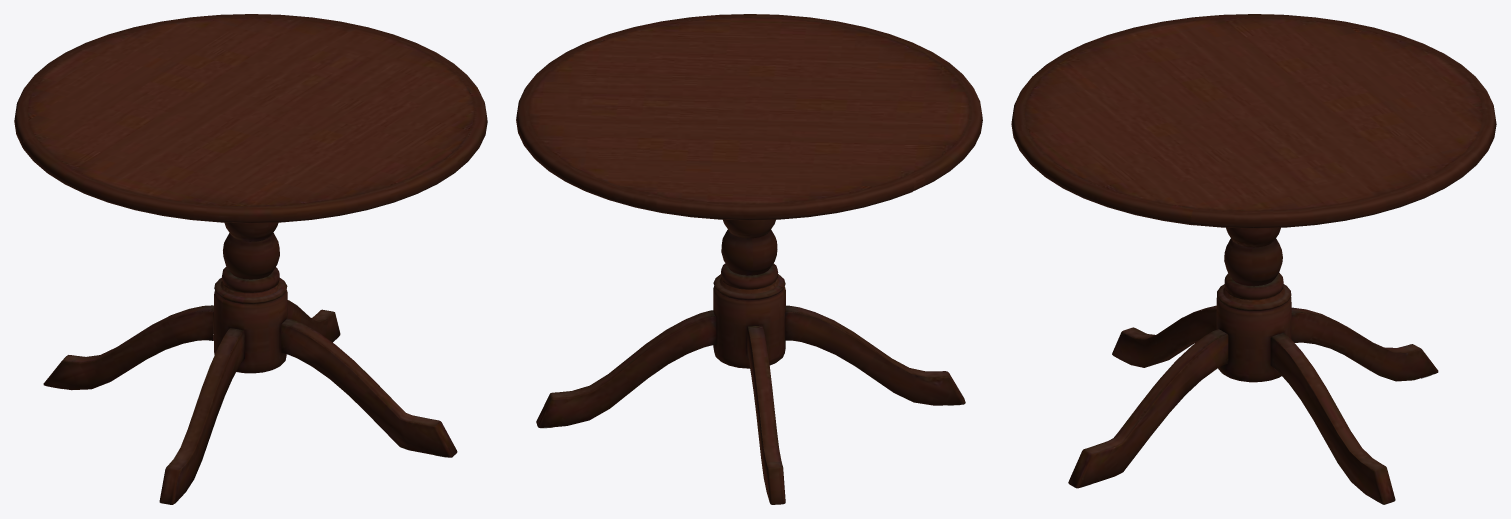
Rendered from round_wooden_table_01.glb.
The picture shows the model from 3 angles, left to right: view 1: azimuth 30°, elevation 25°; view 2: azimuth 150°, elevation 25°; view 3: azimuth 270°, elevation 25°; orthographic projection. The views are drawn at different scales.
Visible parts, largest first — view 1: round_wooden_table_01; view 2: round_wooden_table_01; view 3: round_wooden_table_01.
Boxes of the visible parts, box(x1,y1,x2,y2) form: round_wooden_table_01: box(14, 14, 487, 504); round_wooden_table_01: box(516, 14, 982, 504); round_wooden_table_01: box(1011, 14, 1496, 504).
Bounding box in the file's own units: 1.4 × 1 × 1.4.
Materials: 1 (1 with a texture image).
